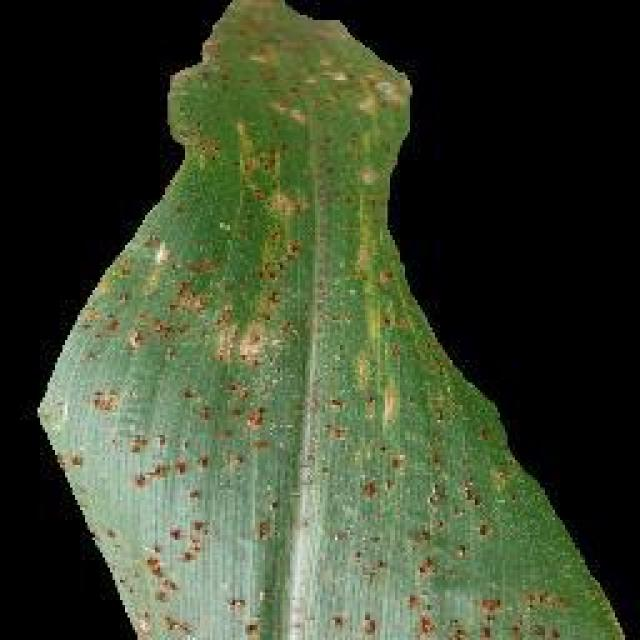Corn Common Rust: (128, 143, 452, 570)
